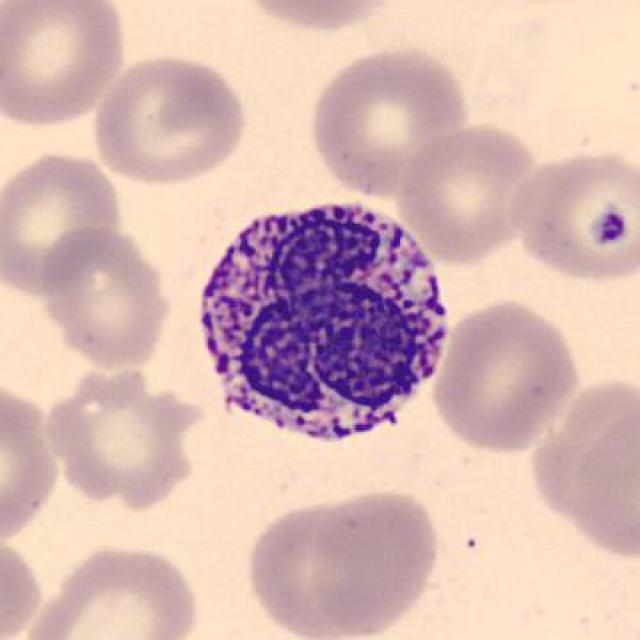RBC: (302, 39, 475, 203), (36, 360, 210, 511), (428, 294, 580, 455), (87, 49, 251, 189), (391, 118, 549, 263), (530, 367, 640, 564), (302, 485, 443, 638), (238, 497, 389, 638), (39, 224, 173, 372), (18, 536, 202, 640), (506, 144, 640, 285), (2, 148, 126, 300), (0, 0, 130, 132), (229, 2, 423, 37)
